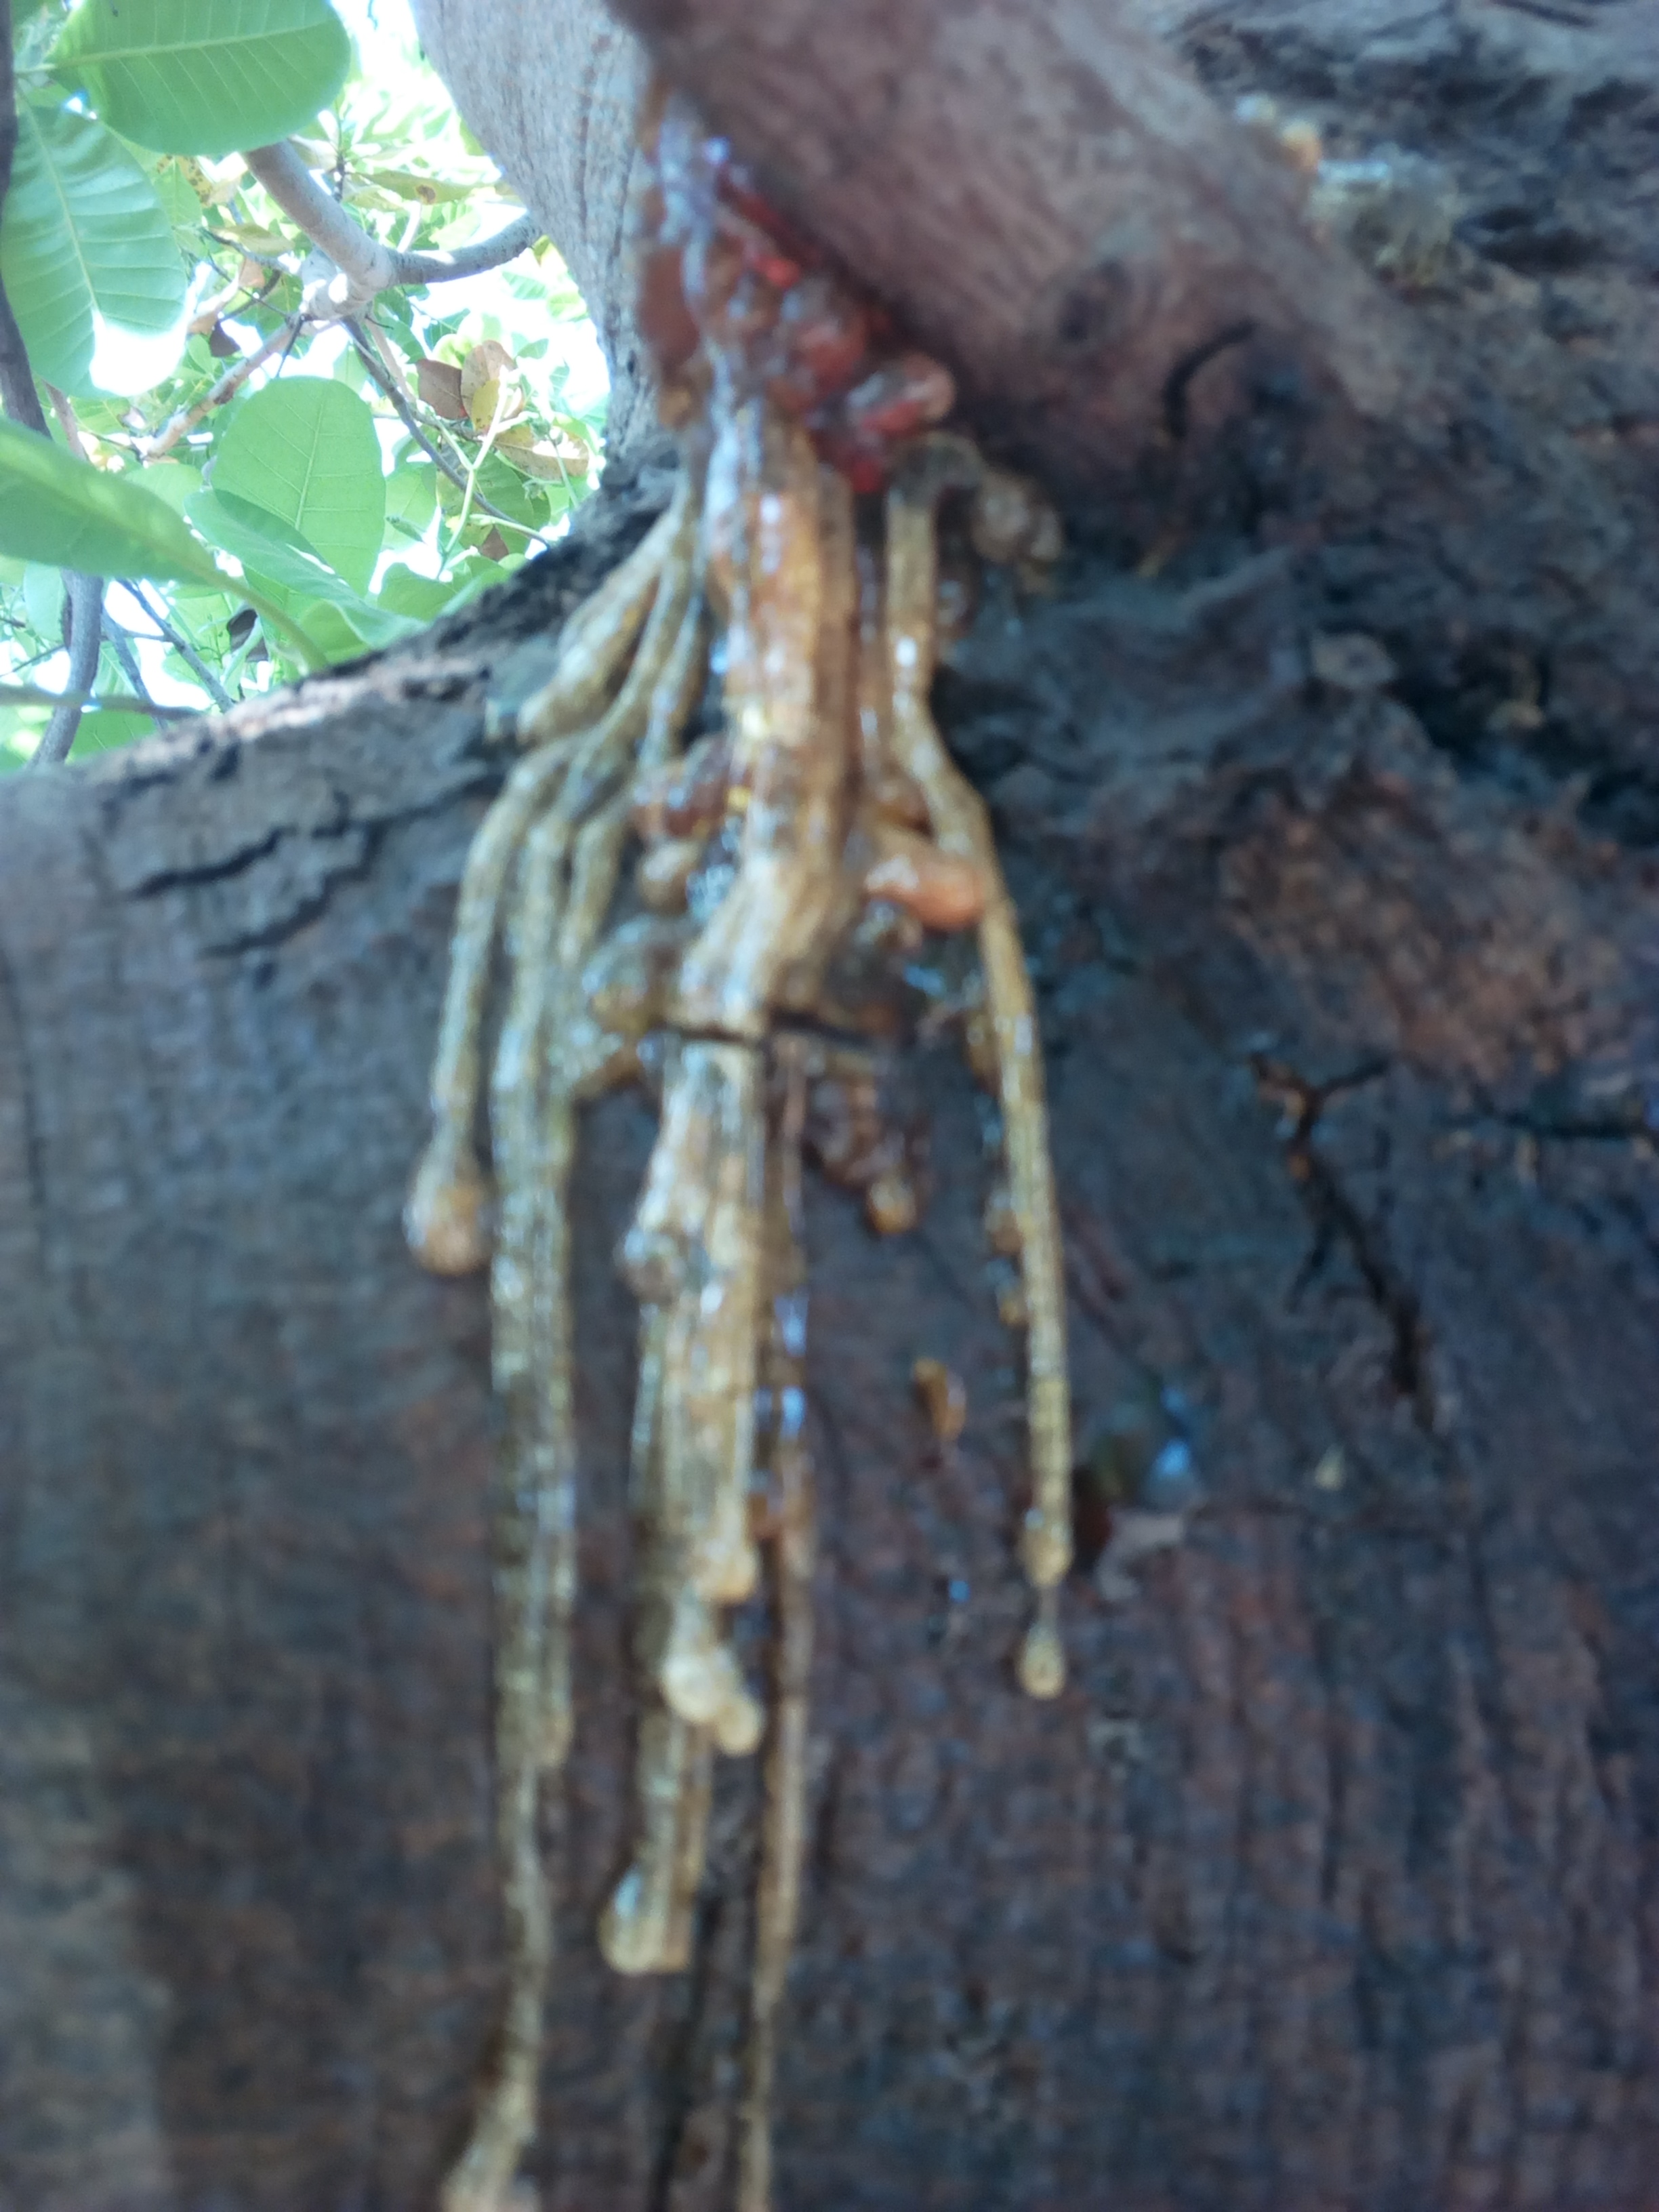Gommose: (453, 374, 985, 2212), (1016, 493, 1659, 1597)
